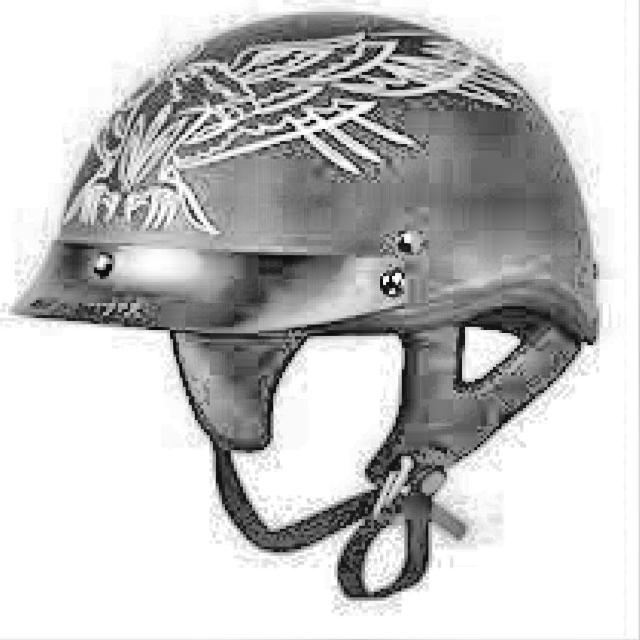Helmet: (11, 1, 604, 623)
